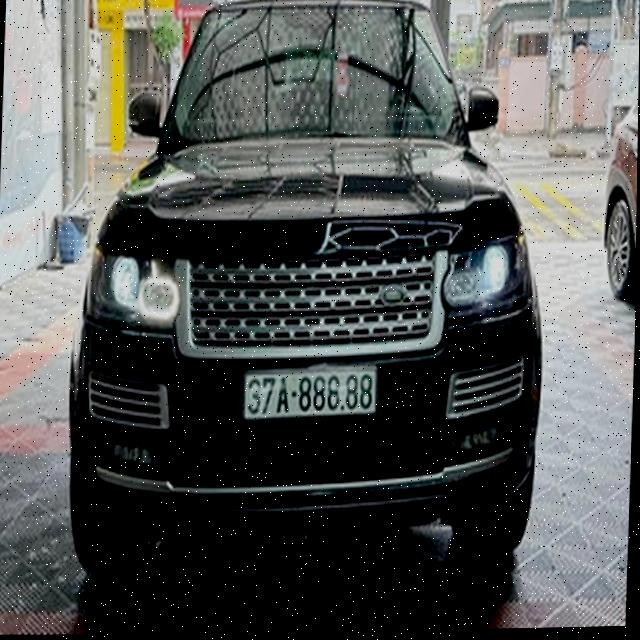car: (63, 0, 547, 613), (592, 72, 639, 337)
plate: (238, 363, 385, 425)
